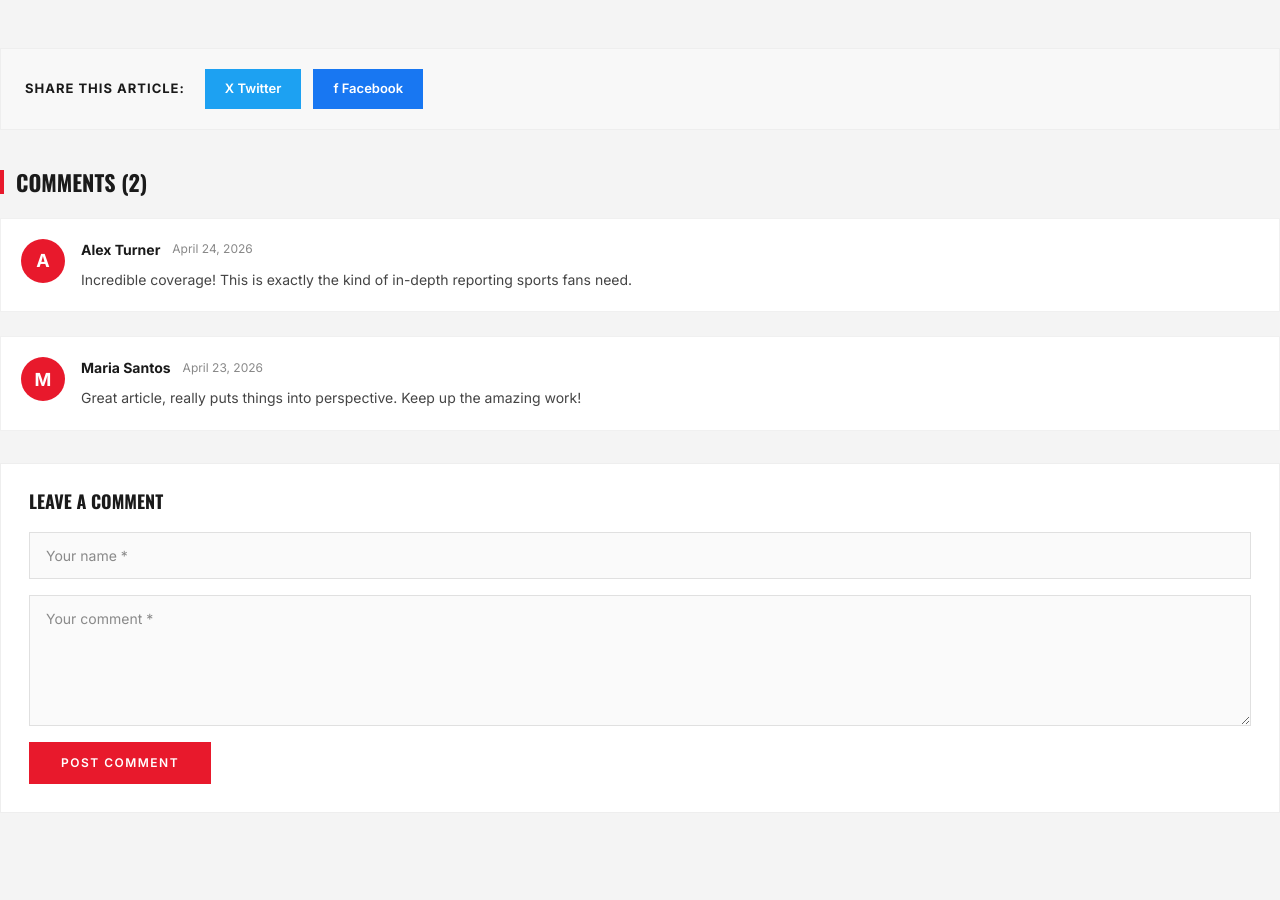
Test: CommentSection — ulashish (share) › Facebook bosilgandan keyin ✓ belgisi paydo bo'ladi
What coordinates should you click on to do the following:
click the button "f Facebook"
I would click on:
 (368, 89)
Its box is [313,69,423,108].
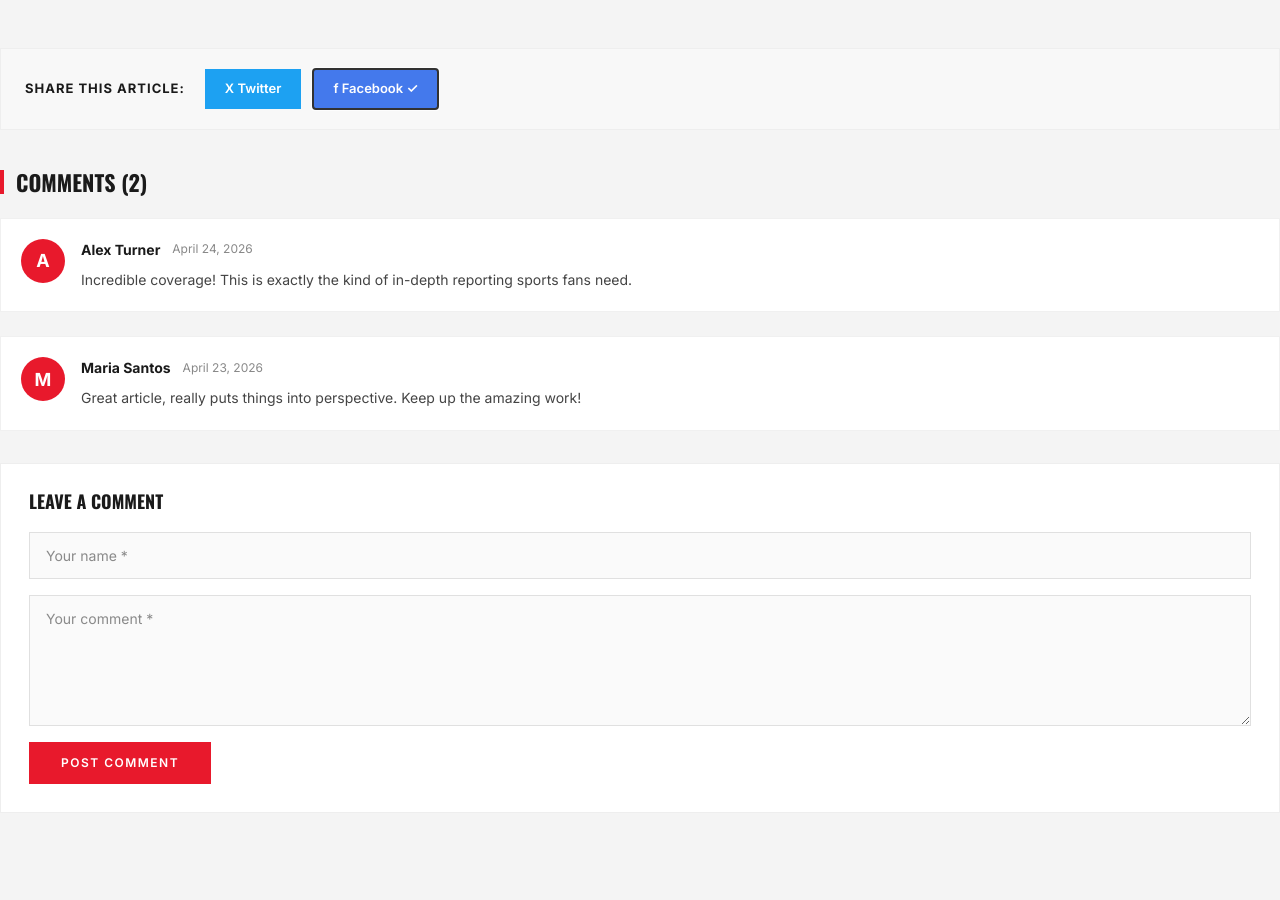
Expected: the button "f Facebook ✓" is shown, [313,69,438,108]
